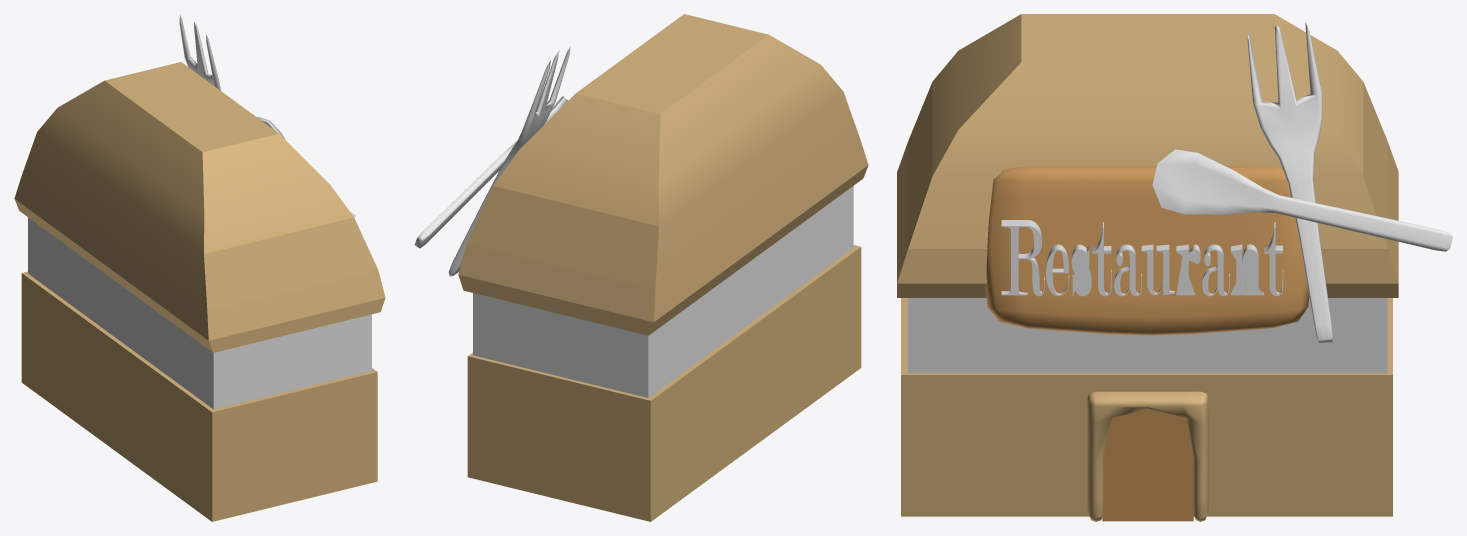
Rendered from Res.fbx.
3 renders of one model, left to right at view 1: azimuth 30°, elevation 25°; view 2: azimuth 150°, elevation 25°; view 3: azimuth 270°, elevation 25°, orthographic. The views are drawn at different scales.
Visible parts, largest first — view 1: pCube1, pCube10, pCube17; view 2: pCube1, pCube10, pCube17, pCube18; view 3: pCube1, pCube10, pCube2, pCube11, pCube18, pCube17, typeMesh1, pCube3.
Boxes of the visible parts, x1,y1,x2,y2 form: pCube1: (14,62,385,409); pCube10: (21,271,377,521); pCube17: (179,14,220,90); pCube1: (458,14,868,397); pCube10: (467,245,861,521); pCube17: (448,46,570,276); pCube18: (414,96,568,248); pCube1: (897,14,1398,373); pCube10: (901,298,1392,516); pCube2: (985,166,1309,335); pCube11: (1102,409,1193,521); pCube18: (1152,149,1452,251); pCube17: (1247,22,1332,344); typeMesh1: (1001,220,1283,296); pCube3: (1087,391,1208,521).
Bounding box in the file's own units: 7.86 × 12.84 × 13.79.
